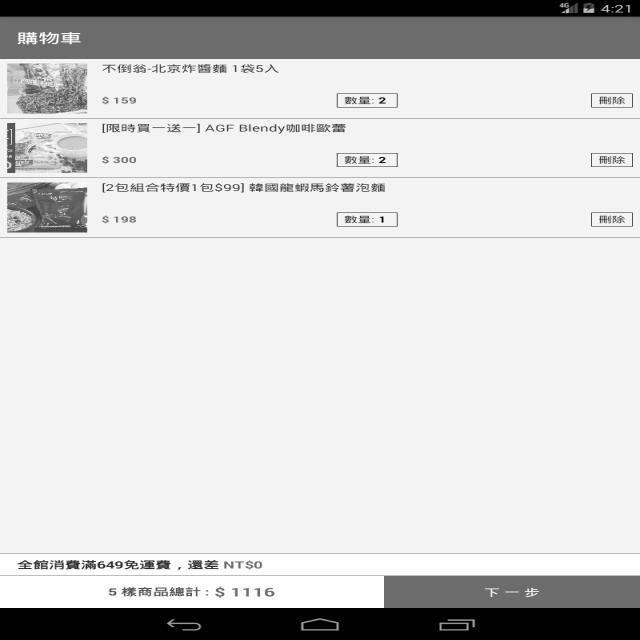ImageView: (2, 120, 90, 174), (2, 62, 88, 116), (2, 184, 92, 234)
TextView: (98, 179, 390, 194), (101, 123, 349, 133), (94, 62, 282, 74), (14, 30, 84, 46), (336, 152, 398, 166), (337, 93, 395, 107), (337, 212, 397, 225), (590, 151, 634, 167), (590, 212, 634, 226), (592, 93, 630, 107), (100, 95, 139, 106), (100, 215, 138, 225), (99, 155, 141, 164)
